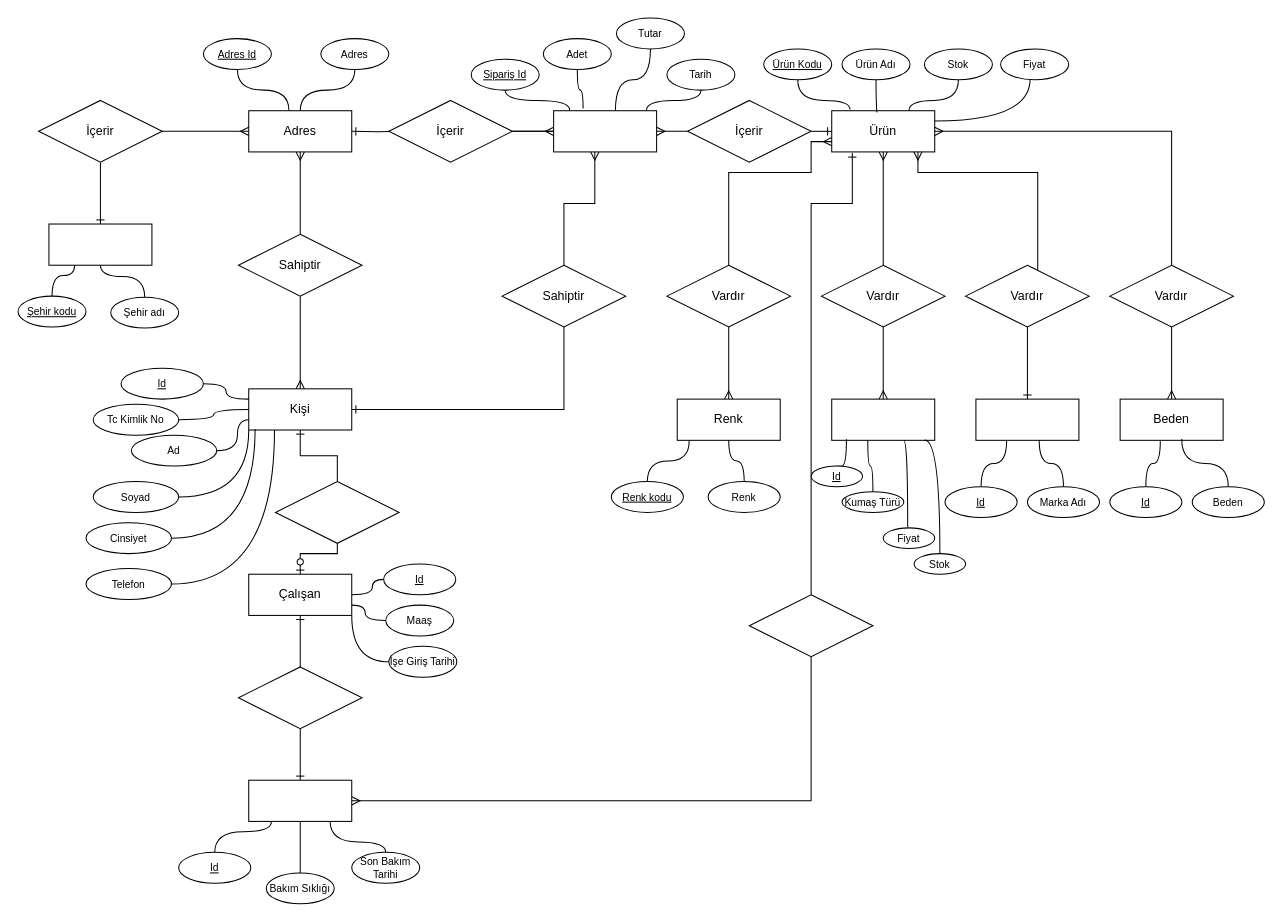
Image size: 1282x922. Some labels were removed from this diagram. The centre of each missing label's shape, as x and y in pixels:
Kişidir: the point at 336,511
Kullanır: the point at 299,697
Kumaş: the point at 883,419
Makine: the point at 300,800
Marka: the point at 1027,419
Sipariş: the point at 605,131
Üretir: the point at 810,625
Şehir: the point at 100,244
